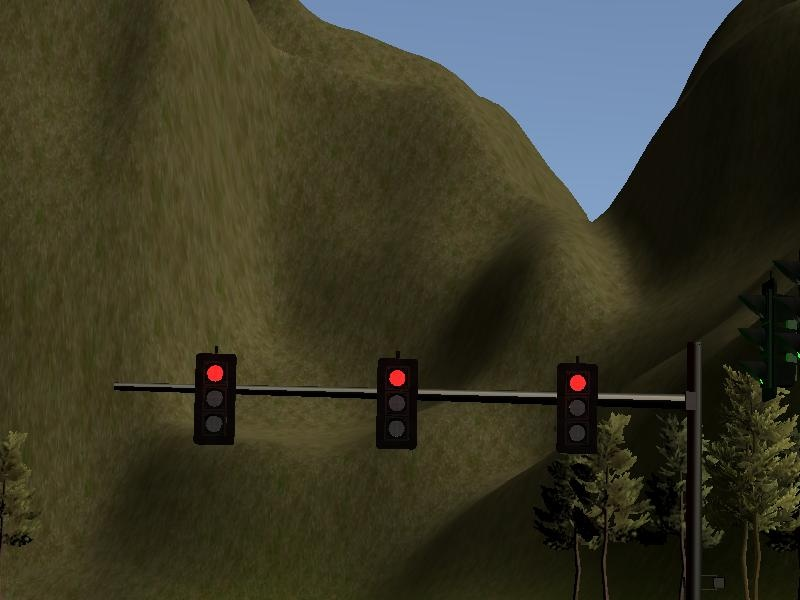red: (375, 355, 418, 450), (558, 363, 597, 456), (197, 351, 235, 443)
